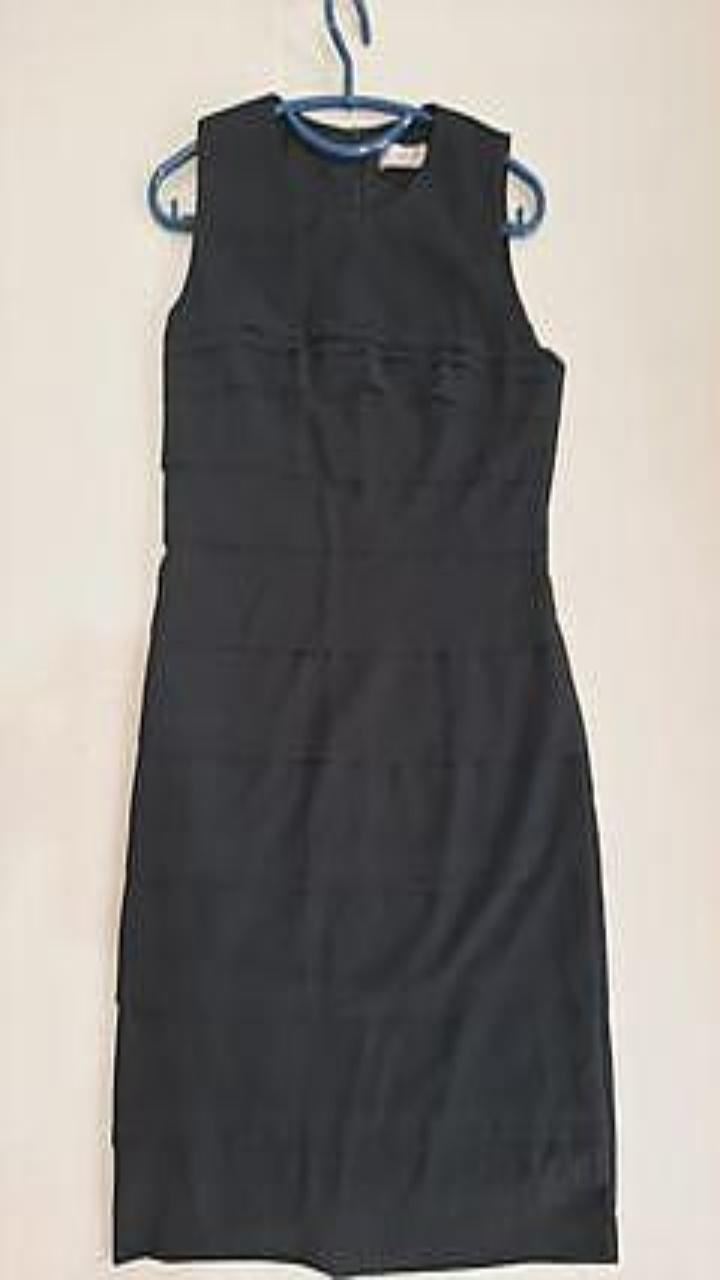Dresses: (112, 93, 617, 1275)
